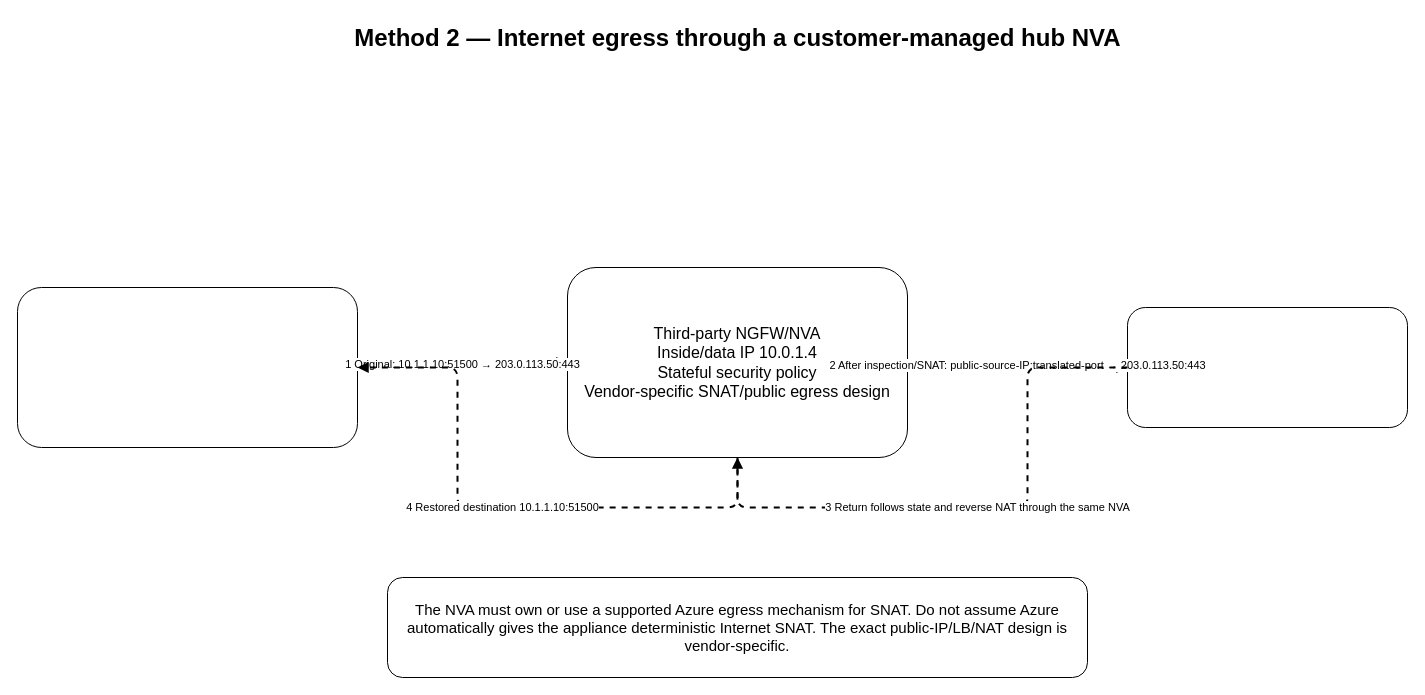
The diagram is 1425 pixels wide and 695 high, and some of its shapes have lost their labels. The centre of each missing label's shape, as x and y in pixels:
Internet destination 203.0.113.50:443: the point at 1267,367
Spoke A workload 10.1.1.10 UDR: 0.0.0.0/0 → VirtualAppliance 10.0.1.4: the point at 187,367
